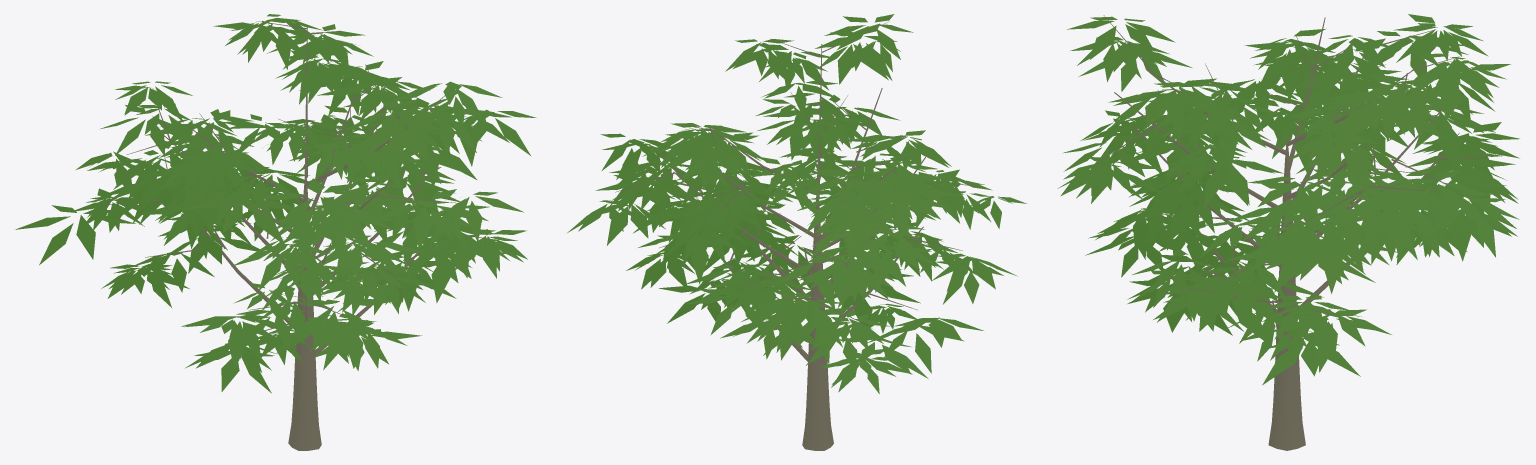
The model's file is Blender_BigleafMaple_2.glb.
3 renders of one model, left to right at view 1: azimuth 30°, elevation 25°; view 2: azimuth 150°, elevation 25°; view 3: azimuth 270°, elevation 25°, orthographic. The views are drawn at different scales.
Parts seen in each view (by area): view 1: Blender_BigleafMaple_2; view 2: Blender_BigleafMaple_2; view 3: Blender_BigleafMaple_2.
Part boxes in pixels (x1,y1,x2,y2): Blender_BigleafMaple_2: [15, 14, 536, 450]; Blender_BigleafMaple_2: [567, 14, 1026, 450]; Blender_BigleafMaple_2: [1057, 14, 1519, 450].
Bounding box in the file's own units: 23.2 × 20.05 × 19.62.
